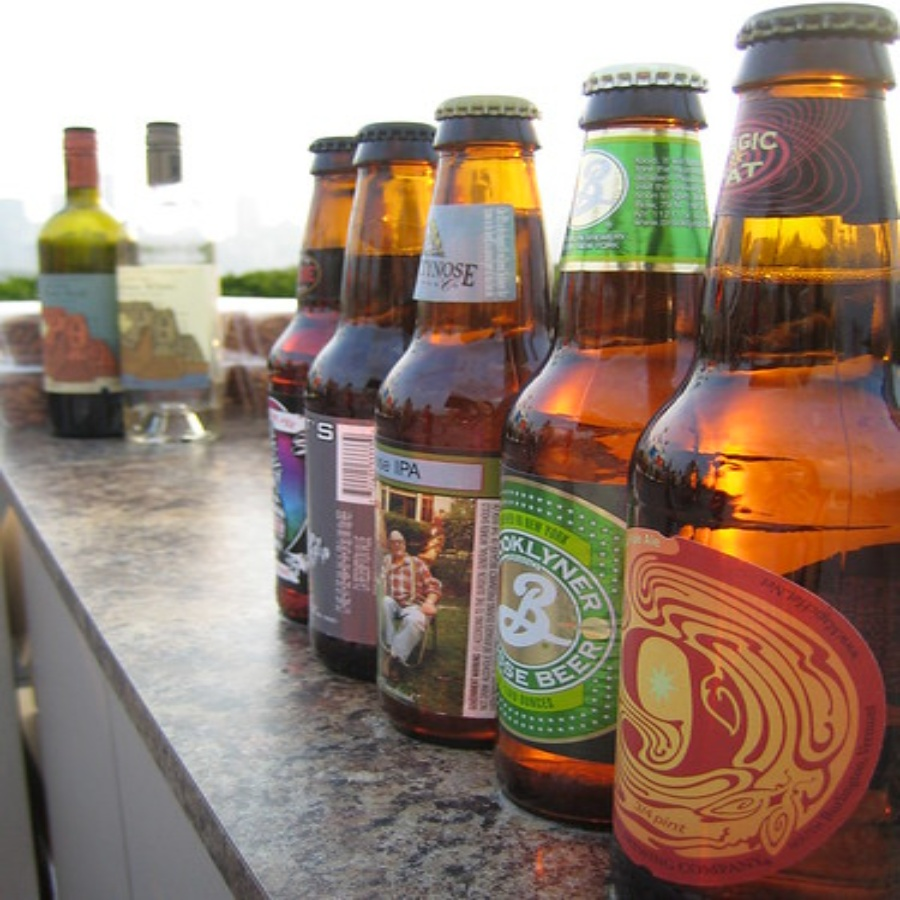beer: (617, 44, 900, 815), (505, 59, 675, 802), (376, 73, 516, 746)
